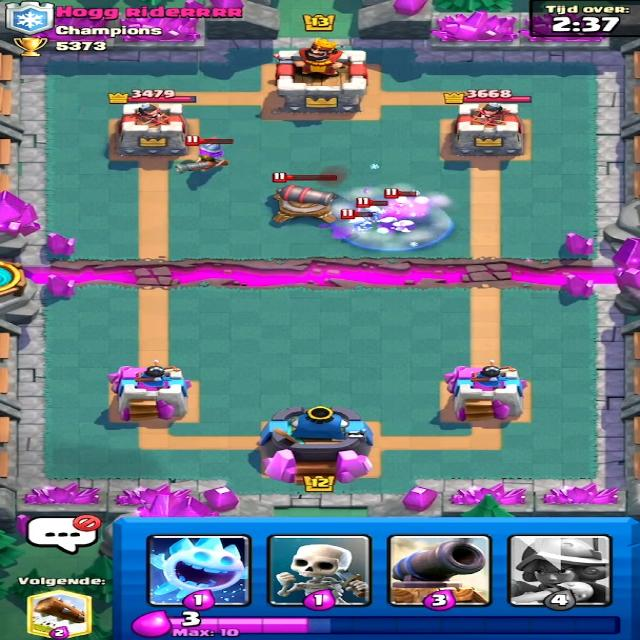Cannon_Card: (385, 534, 486, 606), (391, 533, 486, 606)
Enemy_Cannon_Troop: (266, 183, 344, 229)
Enemy_Musketeer_Troop: (173, 134, 240, 181)
Ice_Spirit_Card: (142, 536, 253, 605)
Musketeer_Card: (506, 535, 611, 604)
Skeleton_Card: (269, 534, 369, 607)
